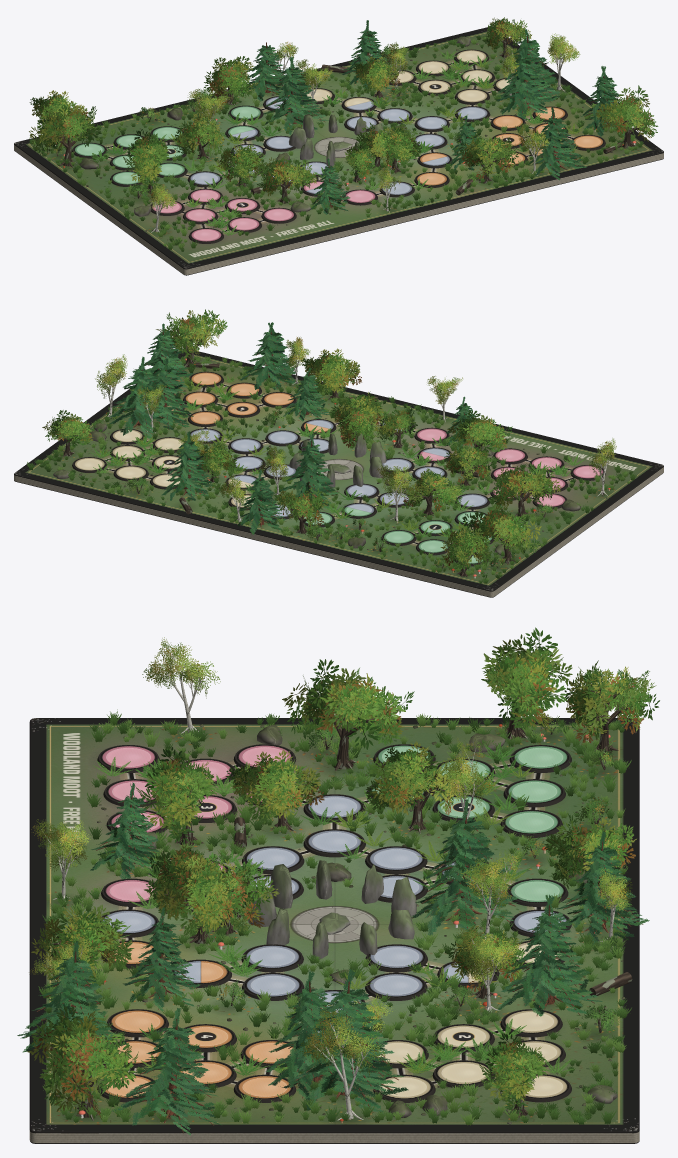
The model's file is moot.glb.
3 views of the same model, one above another, from view 1: azimuth 30°, elevation 25°; view 2: azimuth 150°, elevation 25°; view 3: azimuth 270°, elevation 25° (orthographic). The views are drawn at different scales.
Parts seen in each view (by area): view 1: scenery (×20), board (×2); view 2: scenery (×18), board (×2); view 3: scenery (×26), board (×32).
Boxes of the visible parts, x1,y1,x2,y2 form: scenery (×20): (29, 17, 658, 251); board (×2): (14, 27, 663, 275); scenery (×18): (27, 309, 637, 583); board (×2): (14, 349, 663, 597); scenery (×26): (17, 627, 659, 1135); board (×32): (29, 718, 639, 1143).
Bounding box in the file's own units: 13.15 × 2.05 × 8.31.
23 materials, 20 textured.
